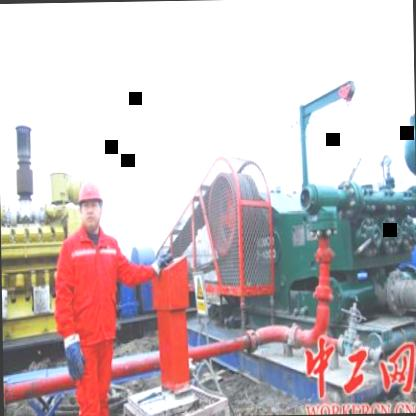helmet: (74, 172, 108, 234)
